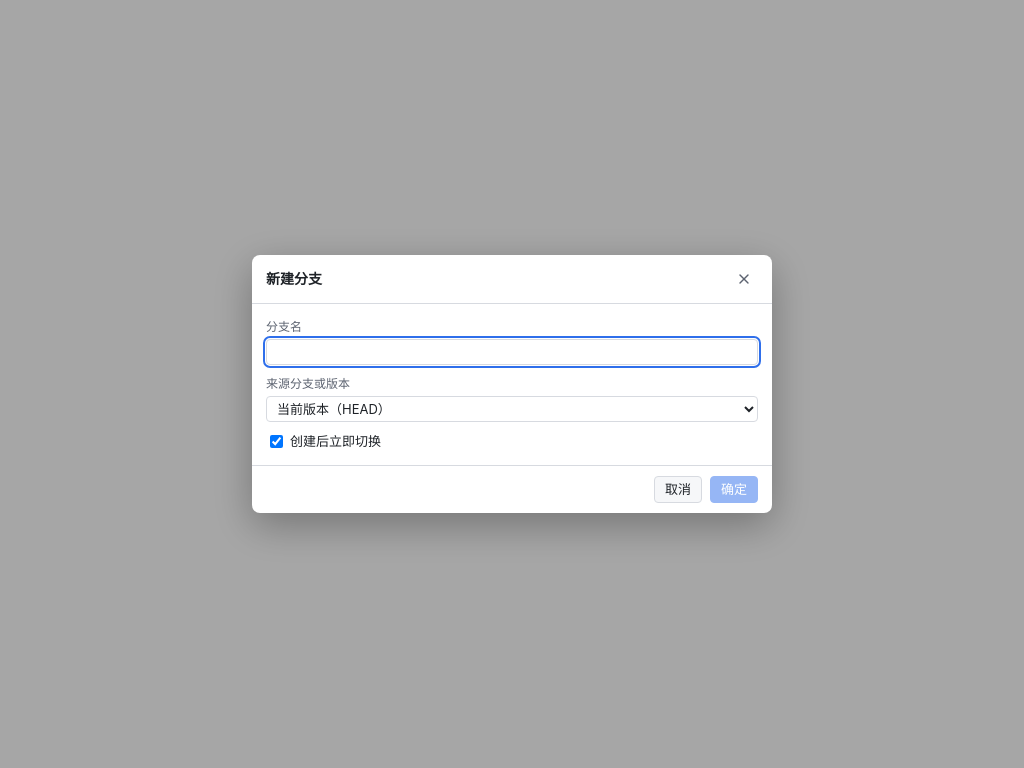
branch creation › prevents repeat submissions while creation is pending
Type "new" into the field labelled "分支名" at x=512, y=352, box [266,339,758,365]
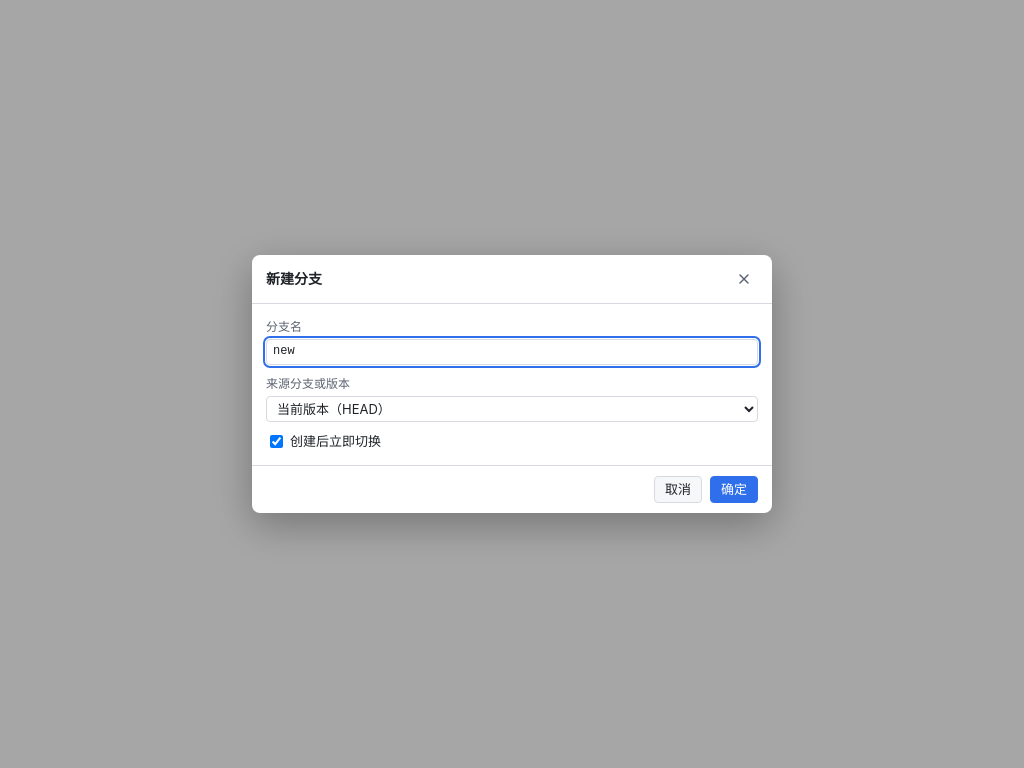
Submit the form "分支名", box [266,318,758,451]
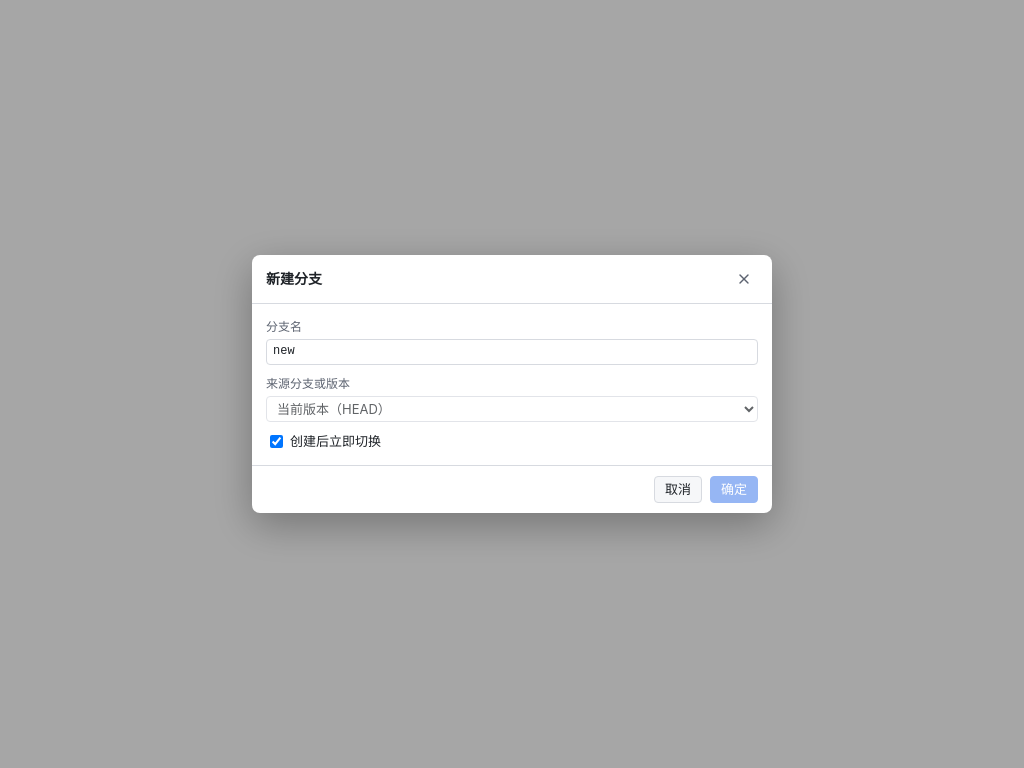
Submit the form "分支名", box [266,318,758,451]
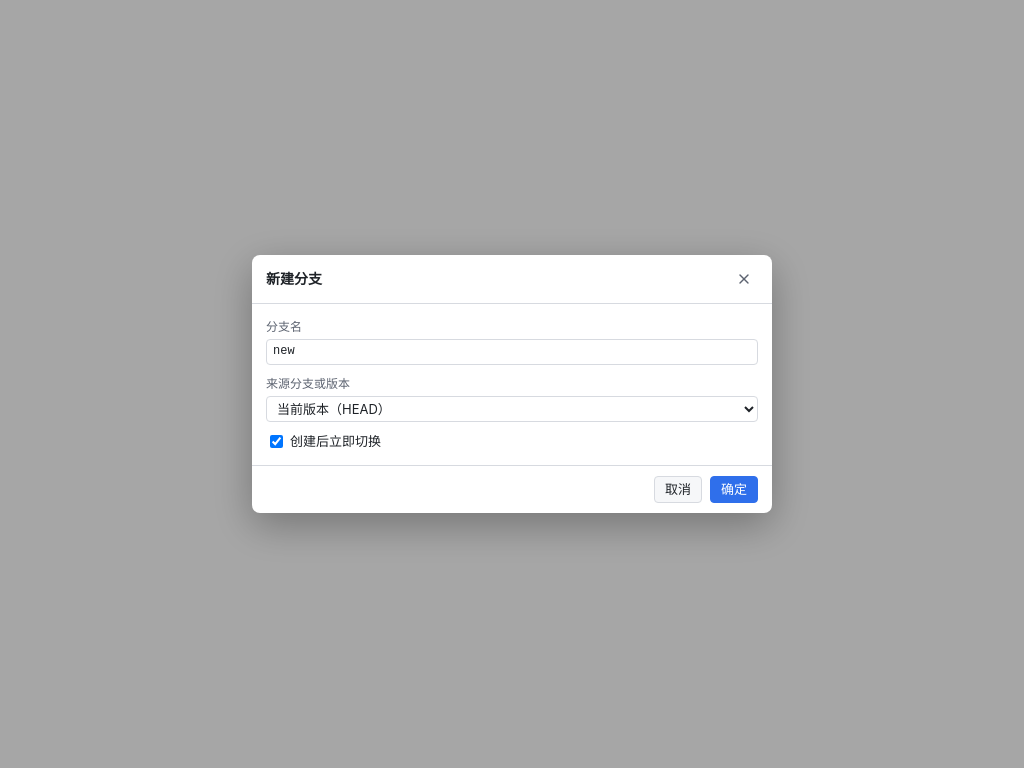
Expected: the button "确定" is enabled, [710,476,758,503]
